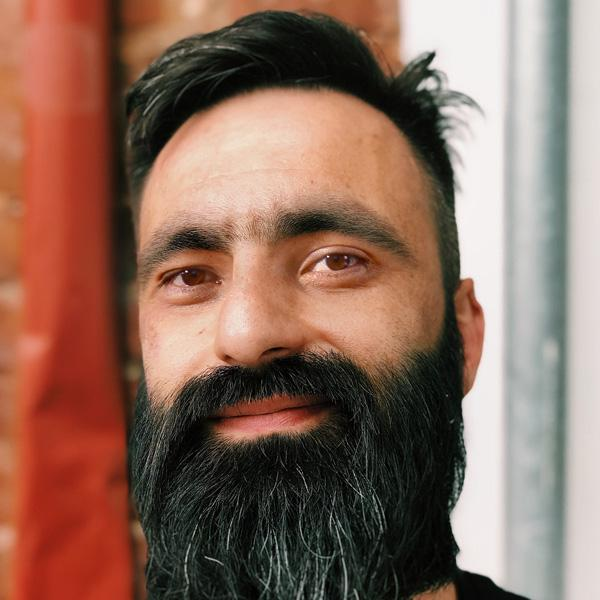Eyes: (296, 238, 378, 292), (148, 257, 232, 298)
